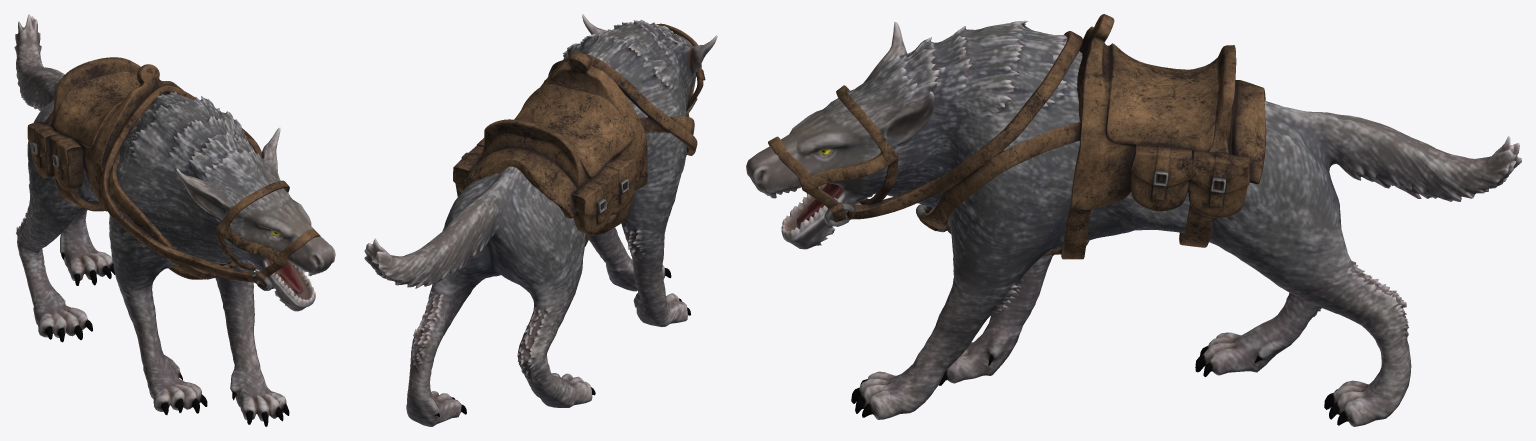
File: MZ4250 - Worg Mount.glb
3 renders of one model, left to right at view 1: azimuth 30°, elevation 25°; view 2: azimuth 150°, elevation 25°; view 3: azimuth 270°, elevation 25°, orthographic. The views are drawn at different scales.
Visible parts, largest first — view 1: Worg_low.002, Harness_low.003; view 2: Worg_low.002, Harness_low.003; view 3: Worg_low.002, Harness_low.003.
Boxes of the visible parts, x1,y1,x2,y2 form: Worg_low.002: (14, 14, 335, 426); Harness_low.003: (27, 57, 320, 290); Worg_low.002: (364, 14, 717, 426); Harness_low.003: (453, 23, 705, 246); Worg_low.002: (746, 20, 1521, 426); Harness_low.003: (768, 14, 1266, 259).
Size of the model in its own units: 6.88 by 12.97 by 24.21.
Materials: 2 (2 with a texture image).
